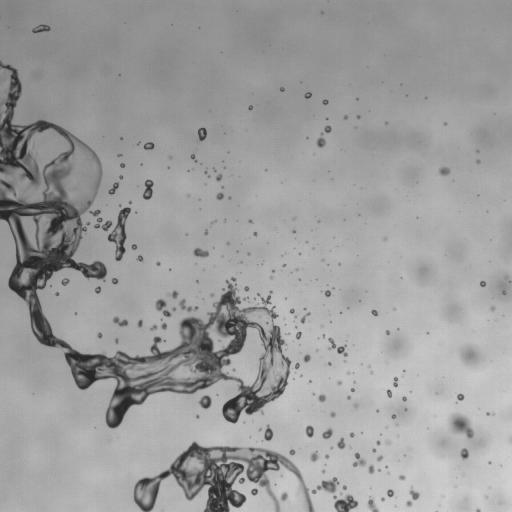droplet: (447, 413, 474, 438), (460, 345, 478, 364), (406, 488, 419, 506), (198, 395, 211, 409), (353, 453, 366, 466), (193, 248, 209, 257), (264, 425, 273, 441), (198, 127, 206, 141), (322, 428, 332, 439), (316, 135, 325, 147), (305, 425, 313, 437), (439, 167, 450, 175), (337, 438, 345, 449), (460, 448, 468, 459), (168, 290, 178, 298), (310, 451, 318, 461), (143, 142, 154, 149), (216, 192, 223, 200), (61, 278, 69, 285), (303, 354, 310, 362), (318, 394, 325, 402), (387, 489, 394, 497), (161, 321, 167, 330), (324, 125, 331, 132), (324, 290, 331, 297), (457, 393, 464, 400), (368, 465, 374, 473), (393, 377, 398, 386), (304, 92, 311, 98), (216, 174, 222, 181), (251, 488, 257, 495), (386, 389, 391, 397), (137, 255, 143, 261), (112, 278, 118, 284), (95, 287, 101, 293), (371, 310, 377, 316), (289, 449, 295, 455), (376, 455, 382, 461), (191, 154, 196, 161), (137, 320, 142, 327), (150, 325, 157, 330), (294, 362, 299, 369), (322, 99, 328, 104), (131, 244, 137, 249), (296, 332, 301, 338), (399, 475, 405, 480), (480, 281, 485, 286), (244, 286, 249, 291), (490, 306, 495, 311), (330, 412, 335, 417), (97, 333, 102, 337), (402, 396, 406, 401), (391, 414, 396, 418), (350, 432, 354, 437), (386, 439, 390, 444), (280, 87, 284, 91), (248, 105, 252, 109), (120, 163, 124, 167), (253, 232, 257, 236), (156, 261, 160, 265), (290, 309, 294, 313), (337, 381, 341, 385), (376, 440, 380, 444), (325, 454, 329, 458), (342, 486, 346, 490), (0, 78, 3, 82), (204, 230, 207, 234), (210, 293, 214, 296), (386, 330, 389, 334), (381, 497, 384, 501), (476, 509, 481, 511), (476, 160, 479, 163), (204, 171, 207, 174), (119, 175, 122, 178), (249, 219, 252, 222), (502, 291, 505, 294), (172, 307, 175, 310), (115, 339, 118, 342), (351, 388, 354, 391), (354, 404, 357, 407), (372, 449, 375, 452), (344, 116, 347, 118), (292, 230, 295, 232), (270, 276, 272, 279), (56, 292, 58, 295), (347, 396, 350, 398), (487, 412, 489, 415), (196, 415, 199, 417), (322, 470, 325, 472), (357, 116, 359, 118), (118, 155, 120, 157), (129, 201, 131, 203), (283, 264, 285, 266), (322, 334, 324, 336), (347, 372, 349, 374), (259, 428, 261, 430)
ligament: (0, 61, 291, 428), (133, 441, 358, 511), (108, 207, 130, 261), (328, 337, 347, 356), (155, 299, 171, 317), (179, 299, 198, 311), (143, 179, 153, 199), (367, 497, 379, 511), (112, 316, 127, 326), (32, 24, 50, 32), (108, 182, 118, 194), (301, 312, 309, 323), (211, 220, 216, 224), (509, 436, 511, 443)
